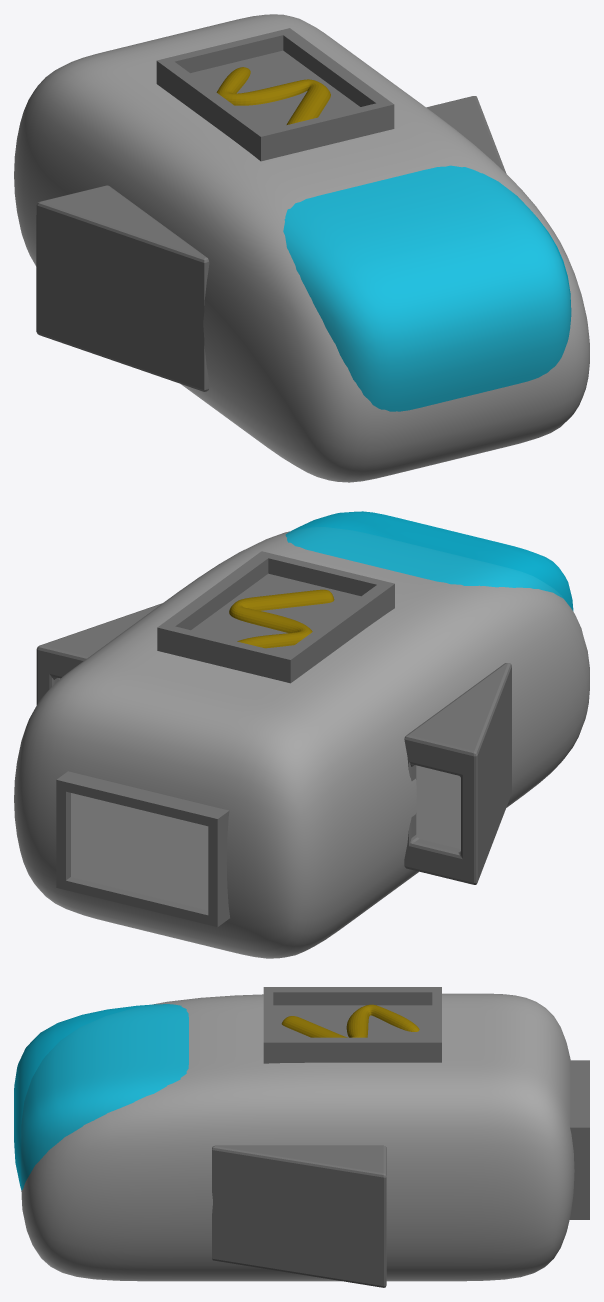
The model's file is spaceship lvl1.fbx.
3 renders of one model, top to bottom at view 1: azimuth 30°, elevation 25°; view 2: azimuth 150°, elevation 25°; view 3: azimuth 270°, elevation 25°, orthographic. The views are drawn at different scales.
Visible parts, largest first — view 1: Cube, Cube.007, Cube.001, Cube.010, Cube.012, Cube.011, Cube.015; view 2: Cube, Cube.001, Cube.007, Cube.010, Cube.014, Cube.013, Cube.012, Cube.015, Cube.020, Cube.011; view 3: Cube, Cube.015, Cube.007, Cube.010, Cube.012, Cube.013, Cube.011.
Part boxes in pixels (x1,y1,x2,y2): Cube: (14,14,589,482); Cube.007: (283,165,571,411); Cube.001: (36,185,209,391); Cube.010: (156,28,394,161); Cube.012: (190,50,360,129); Cube.011: (216,67,330,124); Cube.015: (426,96,506,173); Cube: (14,531,589,958); Cube.001: (404,663,511,884); Cube.007: (285,511,573,611); Cube.010: (157,551,394,683); Cube.014: (71,793,208,910); Cube.013: (56,771,229,927); Cube.012: (191,573,360,652); Cube.015: (36,603,162,704); Cube.020: (416,765,460,848); Cube.011: (229,589,334,648); Cube: (21,993,574,1281); Cube.015: (212,1145,386,1287); Cube.007: (14,1004,188,1190); Cube.010: (263,987,441,1063); Cube.012: (273,1005,432,1037); Cube.013: (569,1060,589,1219); Cube.011: (281,1004,419,1037).
Size of the model in its own units: 2.78 by 3.69 by 1.59.
